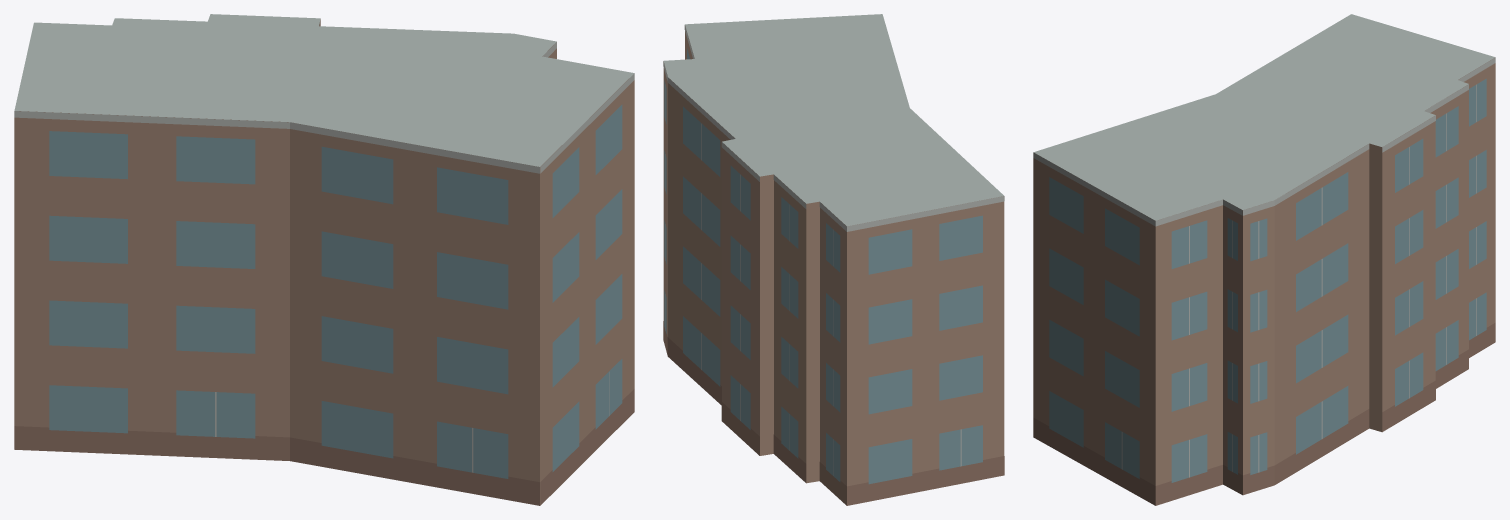
Rendered from survey-upis-32888633.glb.
3 renders of one model, left to right at view 1: azimuth 30°, elevation 25°; view 2: azimuth 150°, elevation 25°; view 3: azimuth 270°, elevation 25°, orthographic. The views are drawn at different scales.
Parts seen in each view (by area): view 1: survey-upis-32888633.tmp; view 2: survey-upis-32888633.tmp; view 3: survey-upis-32888633.tmp.
Boxes of the visible parts, left/top/right/bottom form: survey-upis-32888633.tmp: left=14, top=14, right=634, bottom=505; survey-upis-32888633.tmp: left=663, top=14, right=1004, bottom=505; survey-upis-32888633.tmp: left=1033, top=14, right=1495, bottom=505.
Size of the model in its own units: 18.99 by 12.2 by 17.93.
